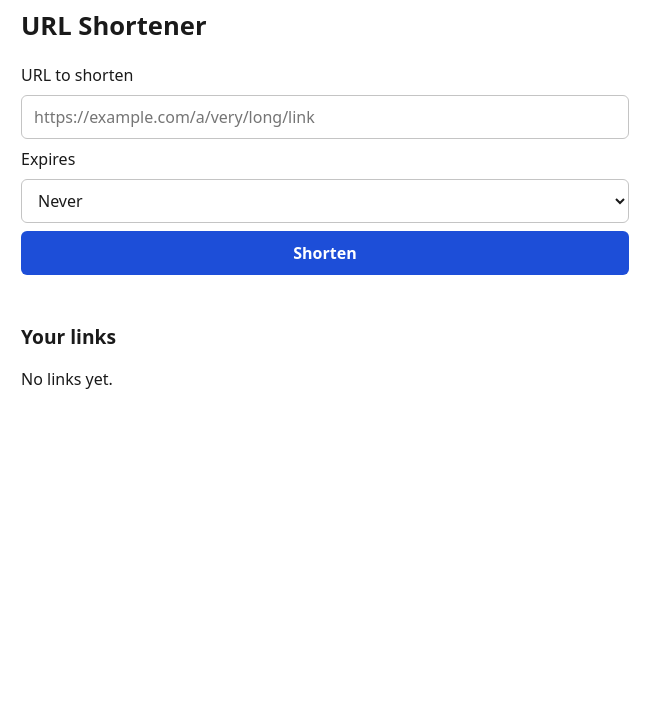
Test: App › double click sends one request
Type "https://example.com" into the field labelled "URL to shorten" at (325, 117), box [21,95,629,139]
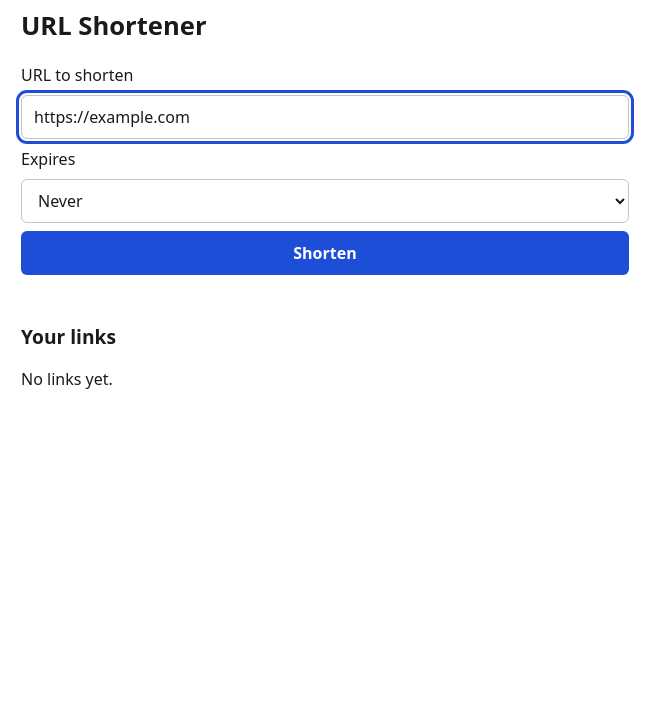
Double-click the button "Shorten" at (325, 253), box [21,231,629,275]
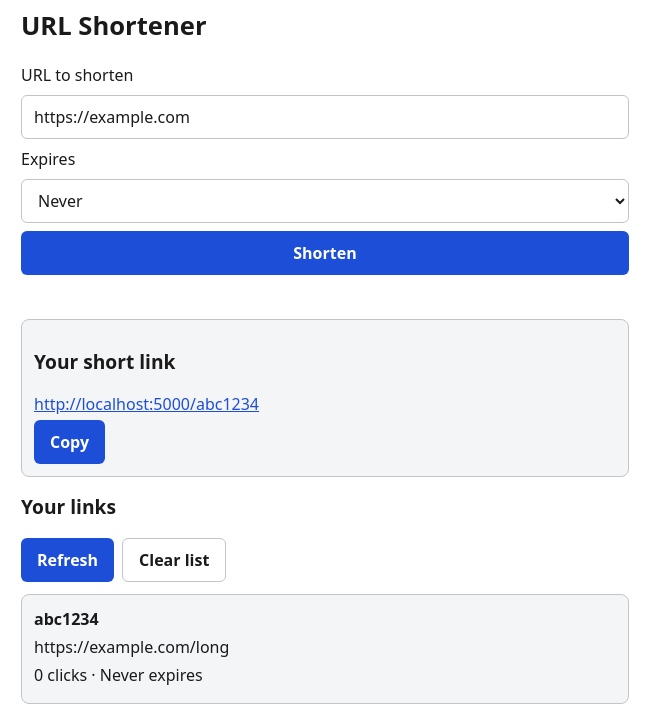
Expected: the link "http://localhost:5000/abc1234" is shown, [34,393,259,415]
